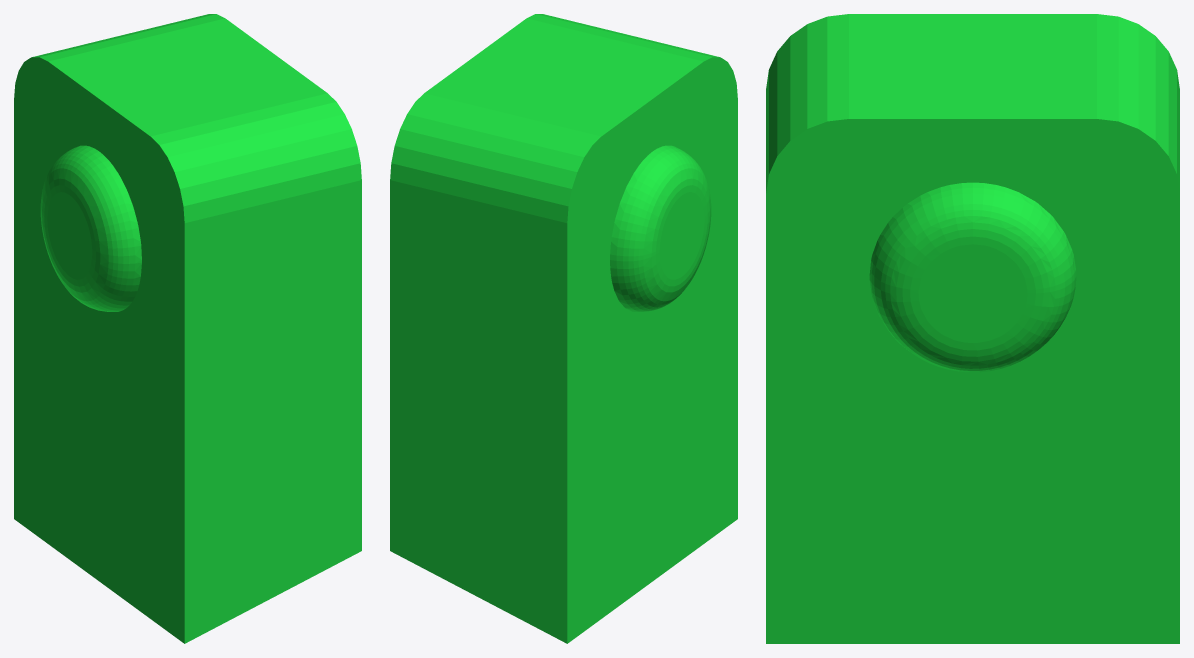
Rendered from Camera_Back_Link.dae.
3 renders of one model, left to right at view 1: azimuth 30°, elevation 25°; view 2: azimuth 150°, elevation 25°; view 3: azimuth 270°, elevation 25°, orthographic. The views are drawn at different scales.
Parts seen in each view (by area): view 1: Camera_Back_Link; view 2: Camera_Back_Link; view 3: Camera_Back_Link.
Part boxes in pixels (x1=…): Camera_Back_Link: x1=14, y1=14, x2=361, y2=643; Camera_Back_Link: x1=390, y1=14, x2=737, y2=643; Camera_Back_Link: x1=766, y1=14, x2=1179, y2=643.
Bounding box in the file's own units: 0.04 × 0.05 × 0.078.
